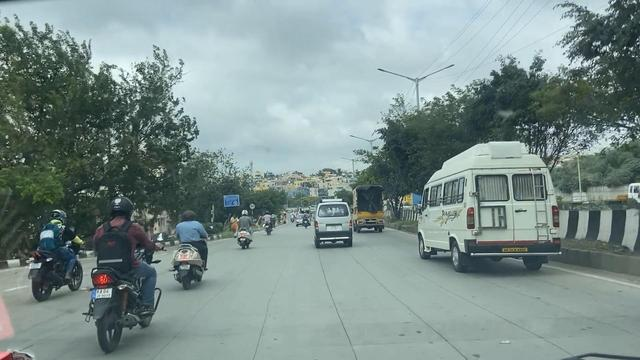HMV: (415, 159, 560, 275), (351, 180, 389, 235)
LMV: (90, 189, 160, 341), (32, 206, 82, 291), (167, 203, 216, 287), (310, 196, 358, 250), (235, 209, 258, 251)
